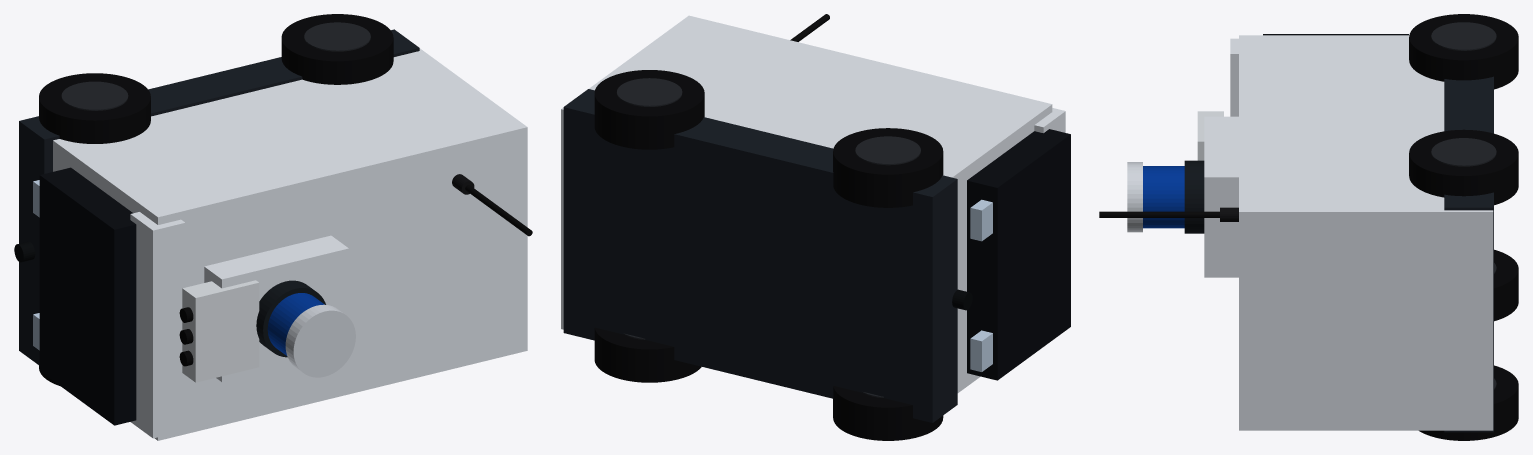
File: unmanned_delivery_vehicle.obj
The picture shows the model from 3 angles, left to right: view 1: azimuth 30°, elevation 25°; view 2: azimuth 150°, elevation 25°; view 3: azimuth 270°, elevation 25°; orthographic projection. The views are drawn at different scales.
Parts seen in each view (by area): view 1: body_white_00, front_black_02, front_white_cap_03, lower_dark_01, roof_base_05, camera_pod_09, tire_21, tire_17, lidar_cap_08, rim_18, rim_22, lidar_blue_07 (+2 smaller); view 2: lower_dark_01, body_white_00, front_black_02, tire_21, tire_17, tire_15, tire_19, rim_18, rim_22, headlight_23, headlight_24, front_white_cap_03; view 3: body_white_00, roof_base_05, tire_17, tire_21, lower_dark_01, lidar_blue_07, tire_19, rim_22, rim_18, tire_15, lidar_pedestal_06, lidar_cap_08 (+3 smaller).
Part boxes in pixels (x1,y1,x2,y2): body_white_00: (53,48,527,440); front_black_02: (39,167,136,425); front_white_cap_03: (130,212,185,438); lower_dark_01: (19,29,419,365); roof_base_05: (204,235,348,381); camera_pod_09: (182,280,259,382); tire_21: (281,14,393,84); tire_17: (39,73,150,143); lidar_cap_08: (285,304,355,377); rim_18: (61,81,128,110); rim_22: (304,22,370,51); lidar_blue_07: (267,293,324,355); lower_dark_01: (563,89,957,422); body_white_00: (561,15,1052,392); front_black_02: (967,129,1070,380); tire_21: (594,70,704,149); tire_17: (833,128,943,207); tire_15: (833,386,943,440); tire_19: (594,327,701,382); rim_18: (855,136,920,165); rim_22: (616,78,682,106); headlight_23: (970,330,992,371); headlight_24: (970,199,992,241); front_white_cap_03: (1034,108,1065,133); body_white_00: (1239,35,1493,430); roof_base_05: (1204,116,1238,277); tire_17: (1409,14,1518,89); tire_21: (1409,129,1518,205); lower_dark_01: (1444,76,1493,432); lidar_blue_07: (1143,166,1184,228); tire_19: (1419,365,1518,440); rim_22: (1431,138,1496,166); rim_18: (1431,22,1496,50); tire_15: (1494,249,1518,321); lidar_pedestal_06: (1184,160,1204,233); lidar_cap_08: (1127,162,1142,232).
Size of the model in its own units: 3.47 by 2.26 by 3.22.
